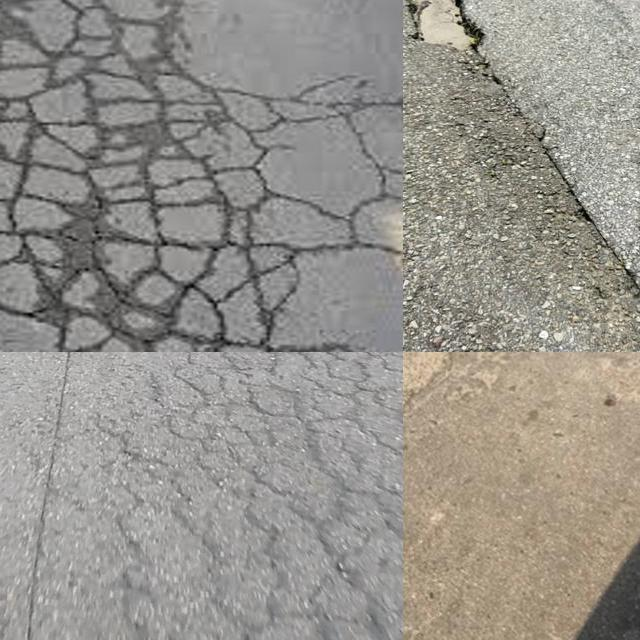Lubang: (403, 0, 482, 51)
Memanjang: (410, 0, 640, 309)
Retak Buaya: (0, 0, 280, 352), (103, 352, 403, 640)
